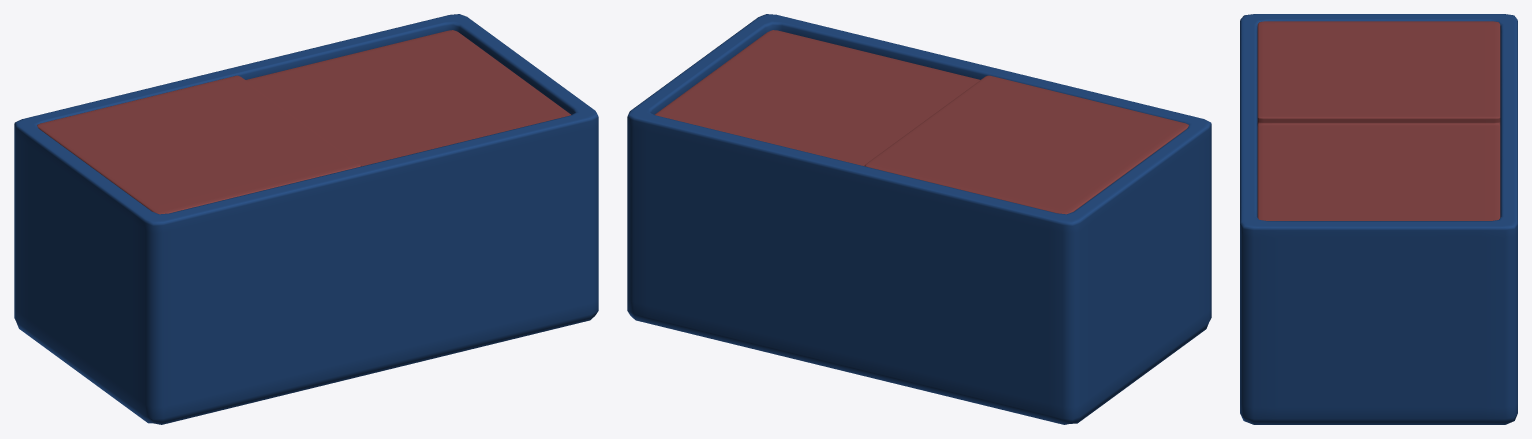
Rendered from Cooler.fbx.
3 views of the same model, side by side, from view 1: azimuth 30°, elevation 25°; view 2: azimuth 150°, elevation 25°; view 3: azimuth 270°, elevation 25° (orthographic). The views are drawn at different scales.
Parts seen in each view (by area): view 1: Cooler (×2); view 2: Cooler (×2); view 3: Cooler (×2).
Part boxes in pixels (x1,y1,x2,y2): Cooler (×2): (14, 14, 598, 424); Cooler (×2): (627, 14, 1211, 424); Cooler (×2): (1240, 14, 1517, 424).
Bounding box in the file's own units: 5.73 × 2.5 × 3.13.
